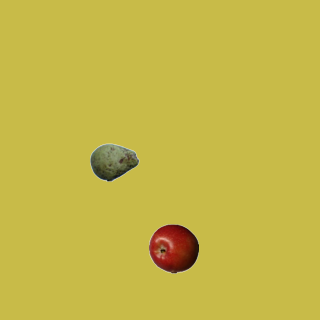Apple Braeburn: (148, 223, 198, 273)
Pear Stone: (89, 137, 139, 187)
